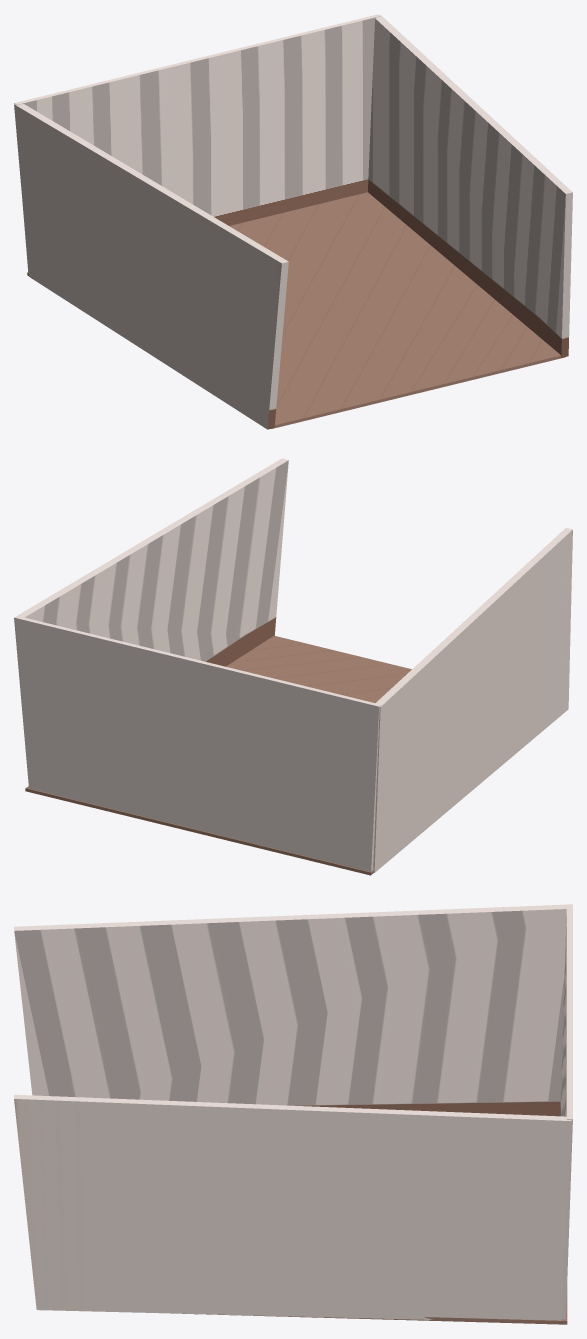
The model's file is LivingRoom_Final.fbx.
The picture shows the model from 3 angles, top to bottom: view 1: azimuth 30°, elevation 25°; view 2: azimuth 150°, elevation 25°; view 3: azimuth 270°, elevation 25°; orthographic projection. The views are drawn at different scales.
Visible parts, largest first — view 1: Wall_Left_LivingRoom, BackWall_LivingRoom, Ground_LivingRoom, Wall_Right_LivingRoom; view 2: BackWall_LivingRoom, Wall_Left_LivingRoom, Wall_Right_LivingRoom, Ground_LivingRoom; view 3: Wall_Right_LivingRoom, Wall_Left_LivingRoom, BackWall_LivingRoom, Ground_LivingRoom.
Part boxes in pixels (left/top/right/bottom): Wall_Left_LivingRoom: left=14, top=104, right=288, bottom=429; BackWall_LivingRoom: left=14, top=14, right=380, bottom=272; Ground_LivingRoom: left=27, top=192, right=565, bottom=428; Wall_Right_LivingRoom: left=368, top=15, right=572, bottom=357; BackWall_LivingRoom: left=15, top=616, right=381, bottom=871; Wall_Left_LivingRoom: left=373, top=528, right=572, bottom=872; Wall_Right_LivingRoom: left=14, top=458, right=288, bottom=786; Ground_LivingRoom: left=25, top=635, right=411, bottom=875; Wall_Right_LivingRoom: left=14, top=1094, right=571, bottom=1320; Wall_Left_LivingRoom: left=14, top=904, right=566, bottom=1116; BackWall_LivingRoom: left=560, top=904, right=572, bottom=1319; Ground_LivingRoom: left=171, top=1285, right=567, bottom=1324.
Bounding box in the file's own units: 725 × 327 × 790.
